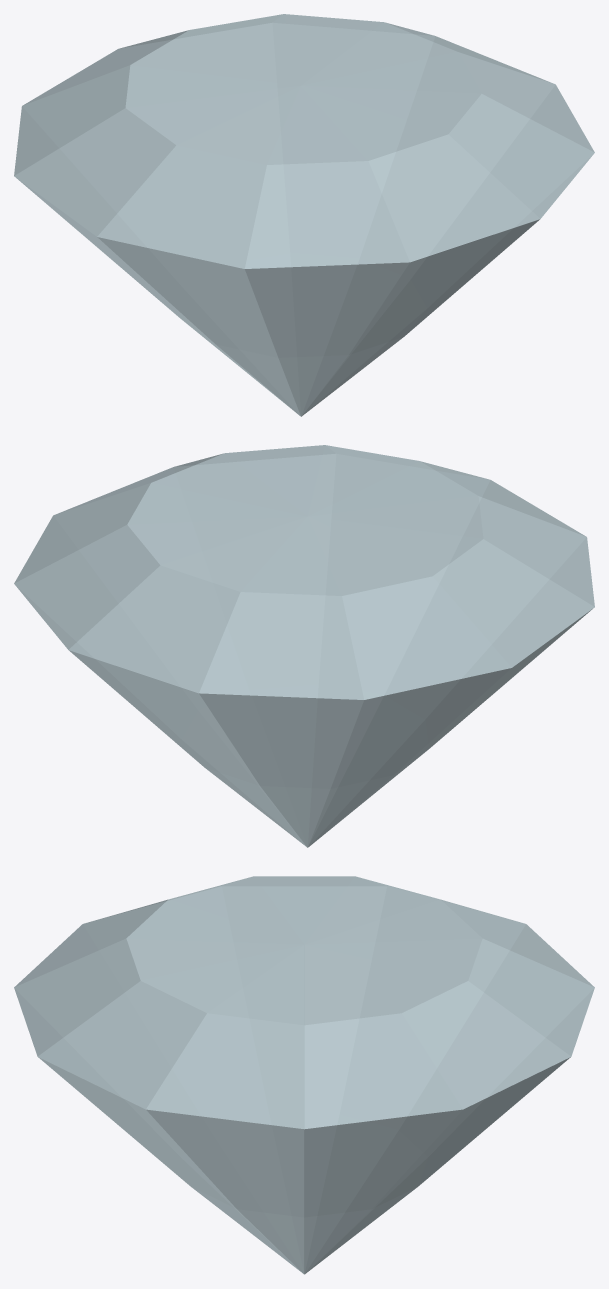
File: Diamond.fbx
3 views of the same model, one above another, from view 1: azimuth 30°, elevation 25°; view 2: azimuth 150°, elevation 25°; view 3: azimuth 270°, elevation 25° (orthographic).
Parts seen in each view (by area): view 1: pSphere1; view 2: pSphere1; view 3: pSphere1.
Part boxes in pixels (left/top/right/bottom): pSphere1: left=14, top=14, right=594, bottom=416; pSphere1: left=14, top=445, right=594, bottom=847; pSphere1: left=14, top=876, right=594, bottom=1274.
Bounding box in the file's own units: 0.0339 × 0.0214 × 0.0342.
